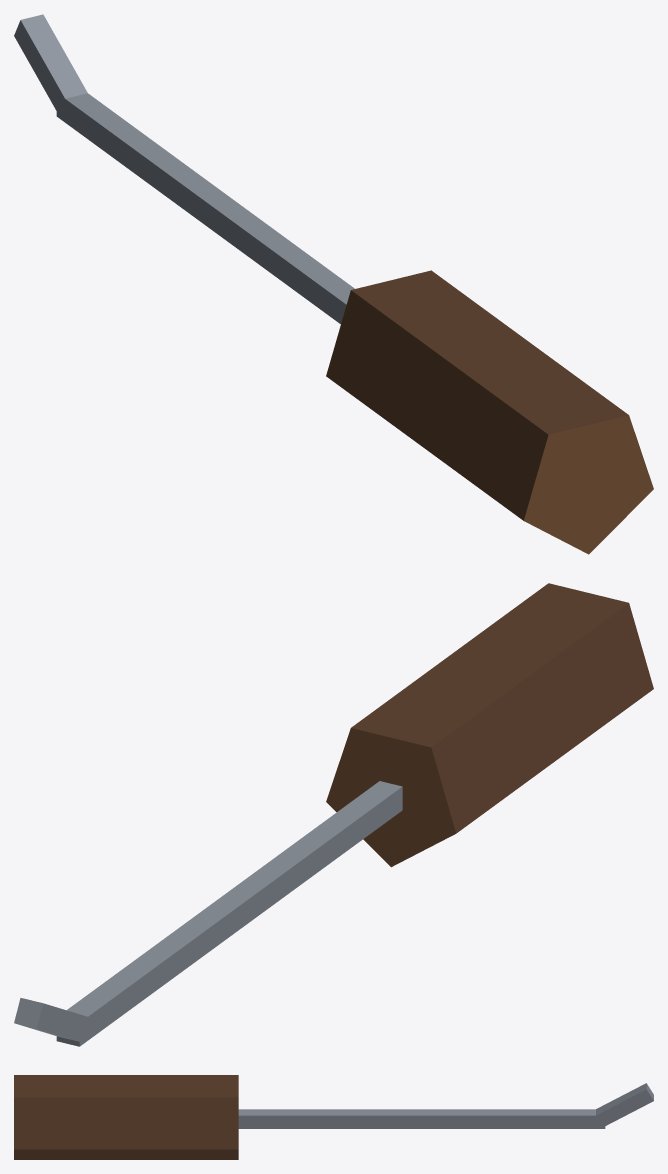
File: prop_lockpick.glb
3 views of the same model, one above another, from view 1: azimuth 30°, elevation 25°; view 2: azimuth 150°, elevation 25°; view 3: azimuth 270°, elevation 25° (orthographic). The views are drawn at different scales.
Visible parts, largest first — view 1: prop_lockpick; view 2: prop_lockpick; view 3: prop_lockpick.
Boxes of the visible parts, box(x1,y1,x2,y2) form: prop_lockpick: box(14, 14, 653, 554); prop_lockpick: box(14, 583, 653, 1046); prop_lockpick: box(14, 1075, 653, 1159).
Bounding box in the file's own units: 0.0114 × 0.0109 × 0.0855.
Materials: 1 (1 with a texture image).
